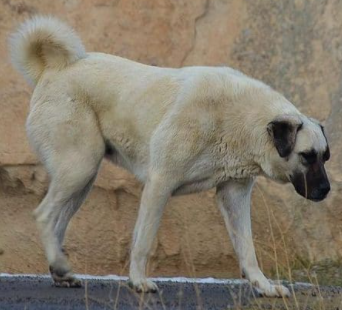dog: (11, 15, 331, 293)
